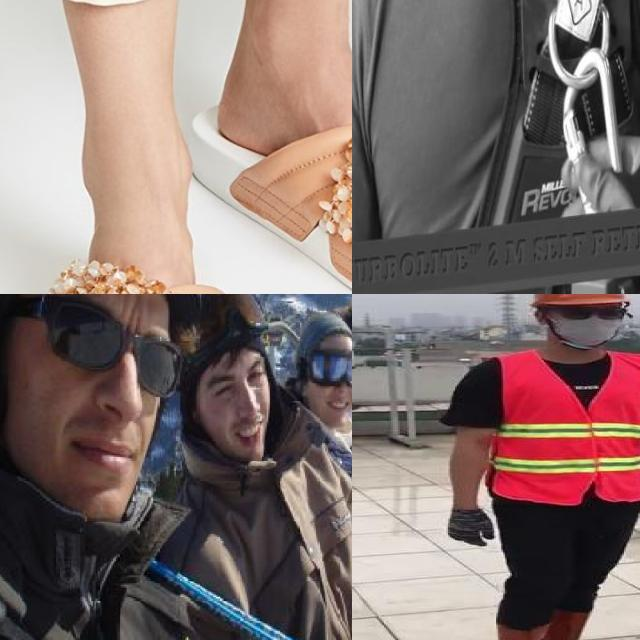Harness: (476, 0, 640, 226)
Sandals: (192, 24, 352, 294), (43, 157, 239, 294)
boots: (547, 605, 606, 640)
face_mask: (548, 301, 631, 350)
face_nomask: (50, 294, 178, 488), (202, 366, 274, 446)
glasses: (37, 294, 180, 399), (303, 346, 352, 388), (551, 302, 633, 325)
hand_glove: (444, 510, 492, 547)
head_helmet: (527, 294, 628, 310)
head_nohelmet: (293, 305, 352, 354)
person: (427, 294, 640, 640)
vest: (489, 349, 640, 505)
